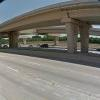Bridge: (4, 2, 95, 46)
